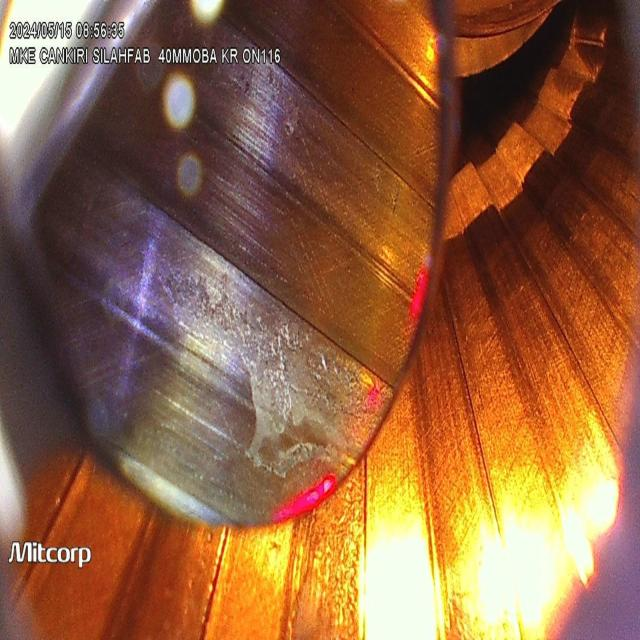hata_2.1: (239, 69, 302, 168)
hata_9.3: (231, 299, 370, 483)
